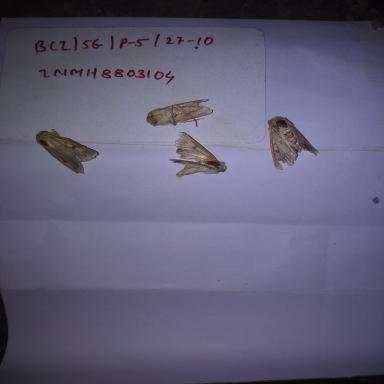abw: (162, 130, 234, 188), (29, 125, 107, 177), (262, 112, 322, 174), (142, 91, 222, 133)
